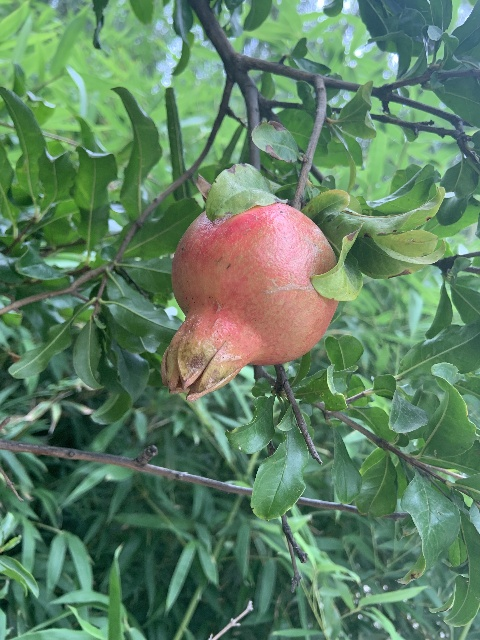ripe: (161, 202, 339, 400)
